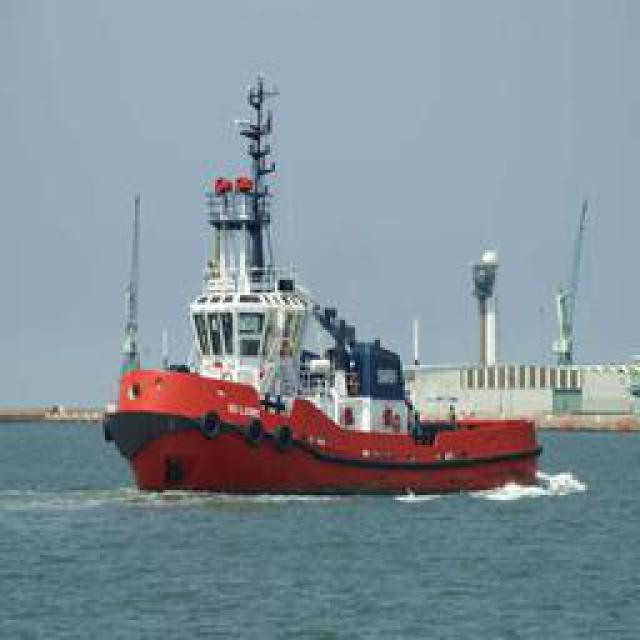Ship: (110, 70, 555, 495)
